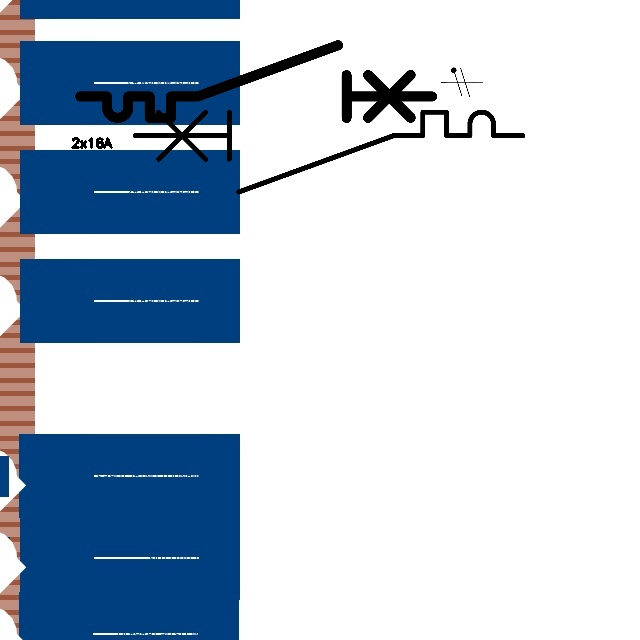interruptor_termomagnetico: (125, 102, 533, 202), (71, 36, 441, 127)
